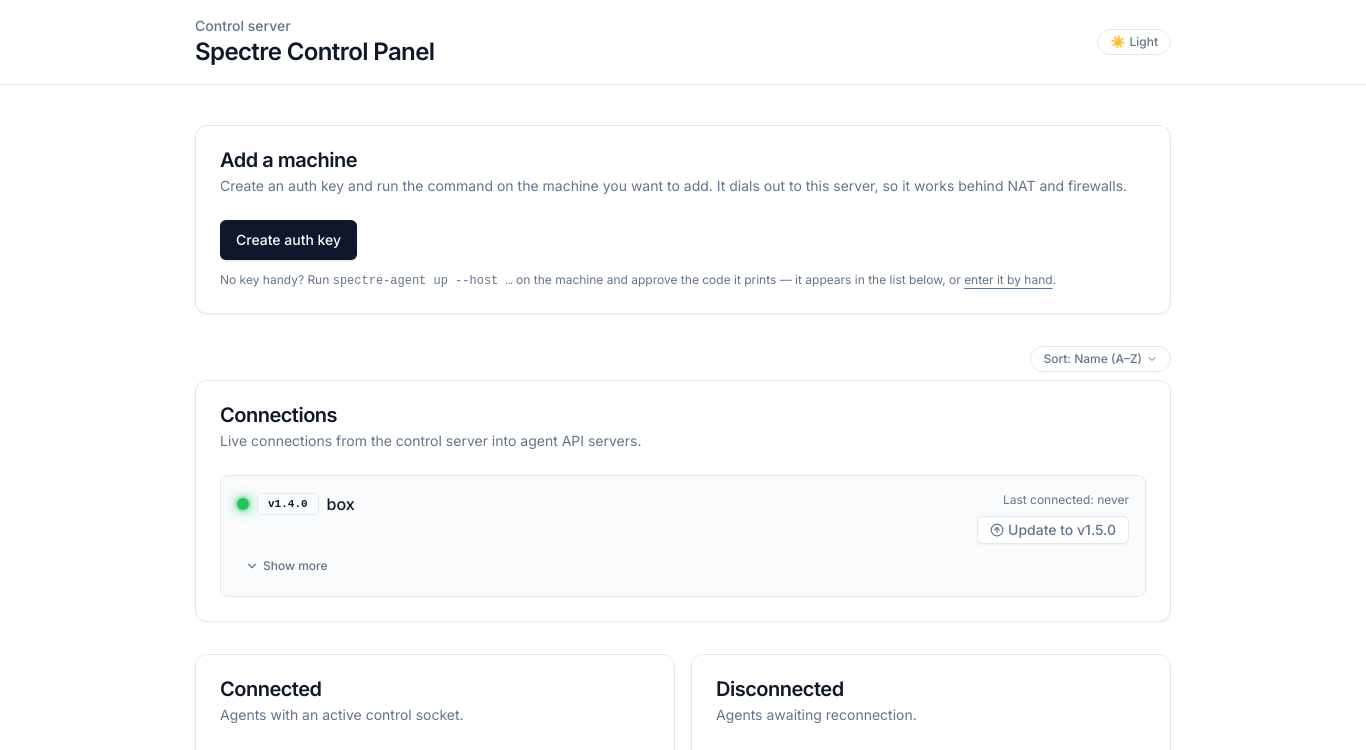
Test case: agent update button › posts the pinned version and shows progress
The width and height of the screenshot is (1366, 750).
Step 1. Click the button "Update to v1.5.0" → (1053, 530), box [977,516,1129,544]
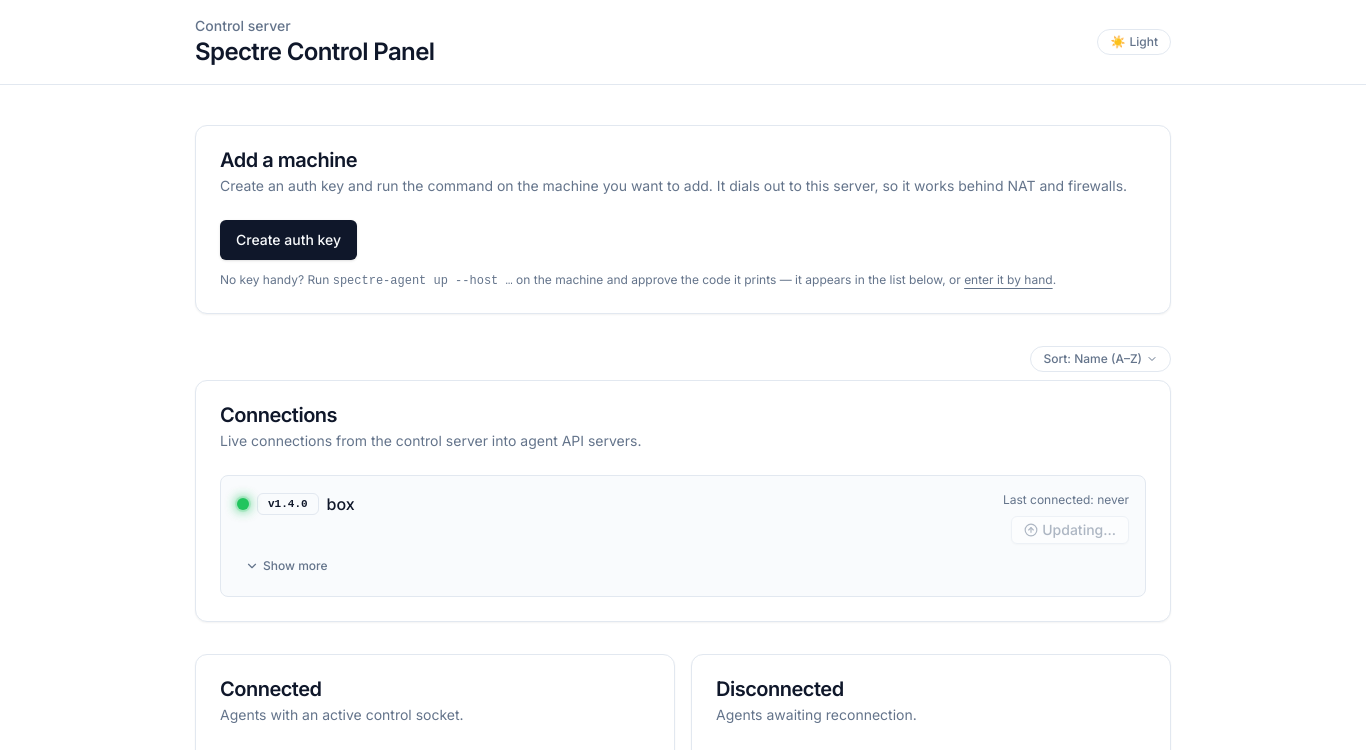
Now the button "Updating..." is disabled, box [1011,516,1129,544]
